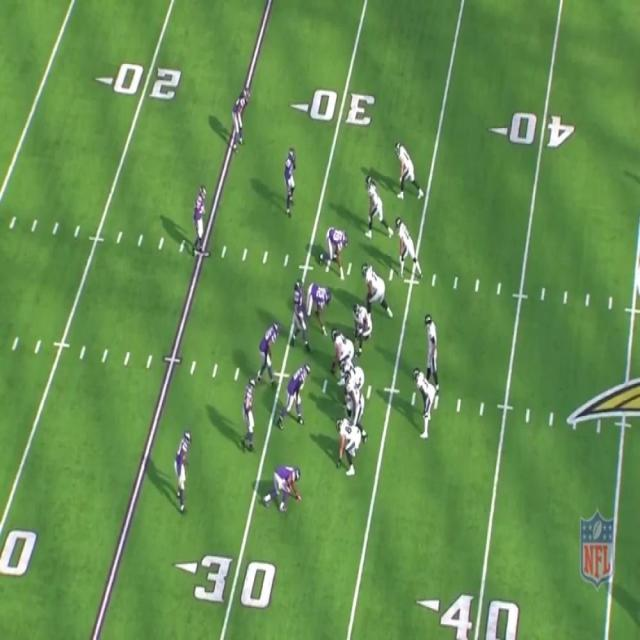center: (332, 327, 357, 371)
db: (175, 430, 192, 508), (229, 85, 249, 142), (243, 376, 258, 444), (195, 185, 209, 252)
lb: (260, 325, 280, 369), (293, 280, 307, 334), (285, 149, 297, 211)
qb: (424, 314, 438, 384)
skill: (335, 415, 359, 465), (416, 369, 434, 434), (396, 220, 416, 276), (398, 139, 420, 189), (367, 177, 382, 235)
